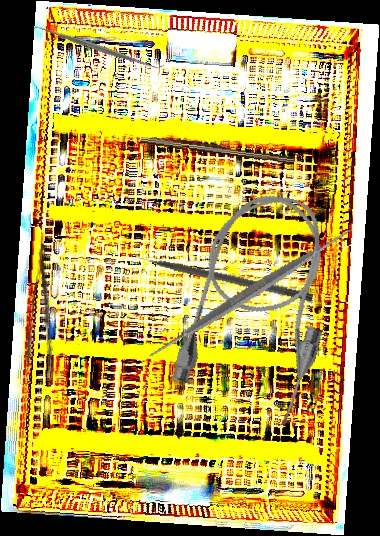Cannula: (167, 180, 354, 430)
Dressing Forceps: (23, 241, 66, 370)
Pusher: (126, 248, 314, 303)
Scalpel Handle: (139, 133, 296, 165)
Spatula Surgical: (139, 179, 363, 407), (32, 18, 165, 77)
